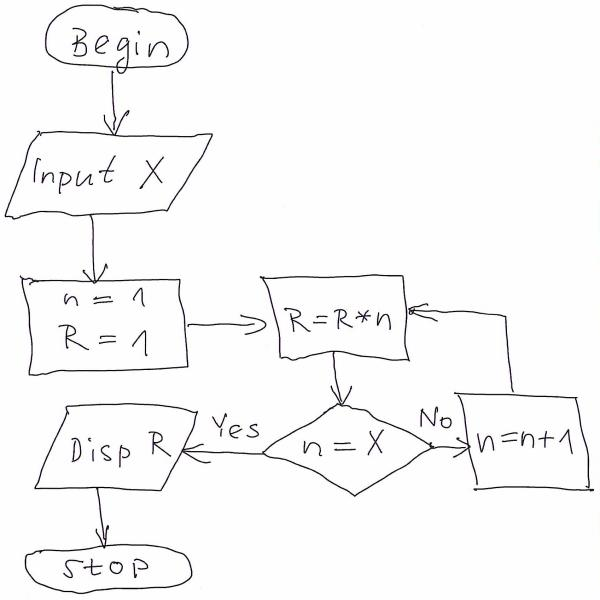arrow: (408, 300, 530, 386), (183, 308, 275, 342), (188, 434, 266, 468), (83, 488, 120, 547), (80, 218, 110, 282), (102, 71, 130, 138), (322, 360, 360, 408)
data: (5, 130, 217, 218), (35, 405, 199, 490)
decision: (263, 401, 438, 492)
process: (18, 275, 186, 369), (256, 273, 411, 359), (459, 392, 590, 486)
terminator: (27, 542, 198, 594), (52, 4, 189, 68)
text: (50, 289, 152, 354), (34, 154, 173, 197), (275, 301, 401, 342), (473, 425, 574, 468), (68, 430, 169, 471), (71, 23, 169, 62), (304, 429, 393, 460), (58, 558, 154, 578), (210, 410, 264, 440), (418, 404, 455, 436)
